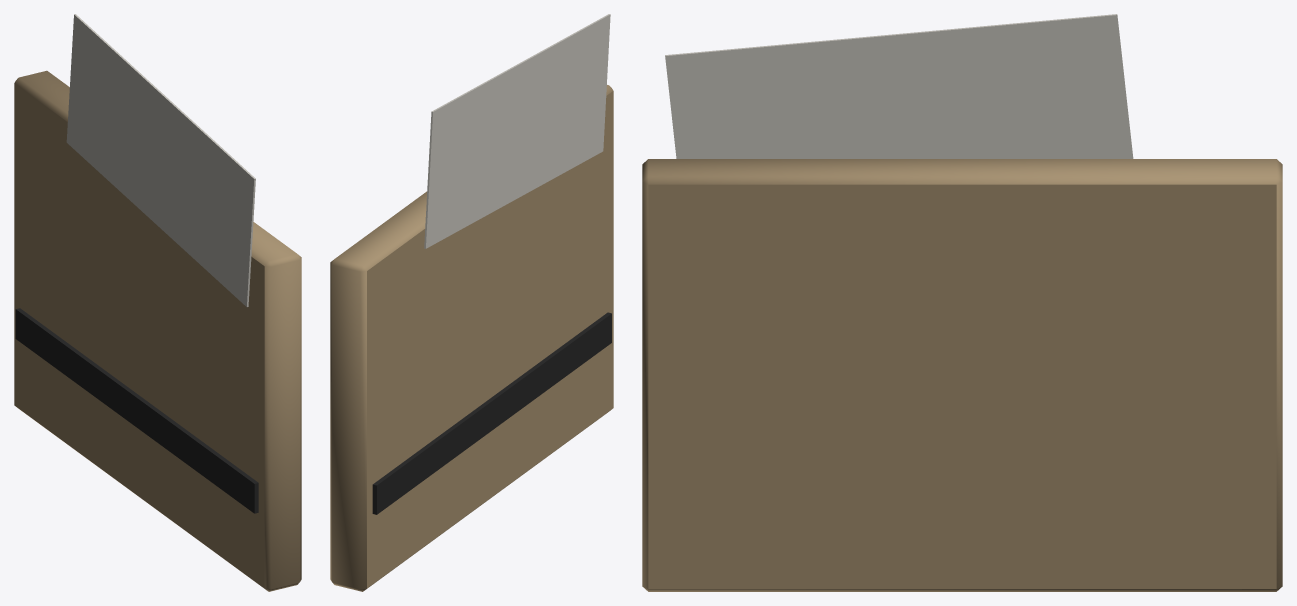
Rendered from item_folder_docs_hand.glb.
3 views of the same model, side by side, from view 1: azimuth 30°, elevation 25°; view 2: azimuth 150°, elevation 25°; view 3: azimuth 270°, elevation 25° (orthographic). The views are drawn at different scales.
Visible parts, largest first — view 1: folder_docs; view 2: folder_docs; view 3: folder_docs.
Part boxes in pixels (left/top/right/bottom): folder_docs: left=14, top=14, right=301, bottom=591; folder_docs: left=330, top=14, right=613, bottom=591; folder_docs: left=642, top=14, right=1282, bottom=591.
Size of the model in its own units: 0.029 by 0.2968 by 0.31.
